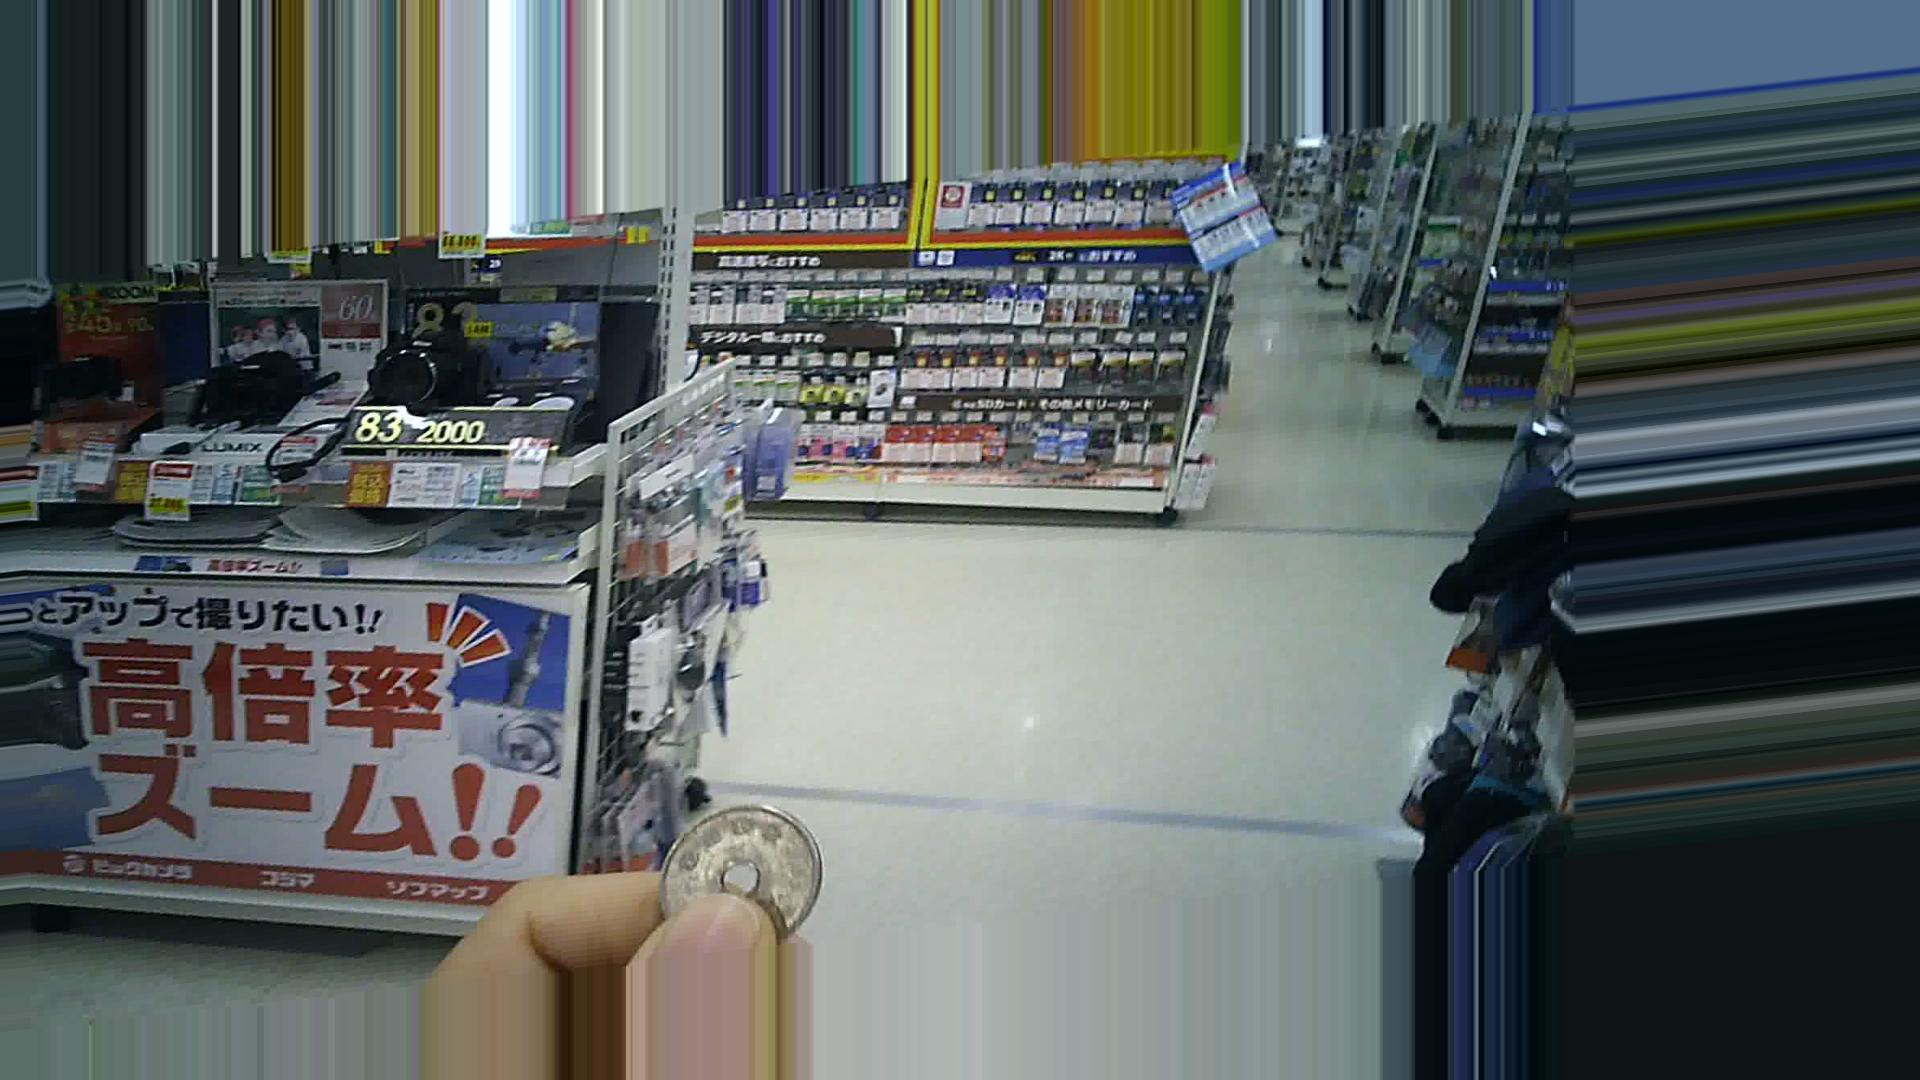50 Yen: (645, 799, 847, 945)
